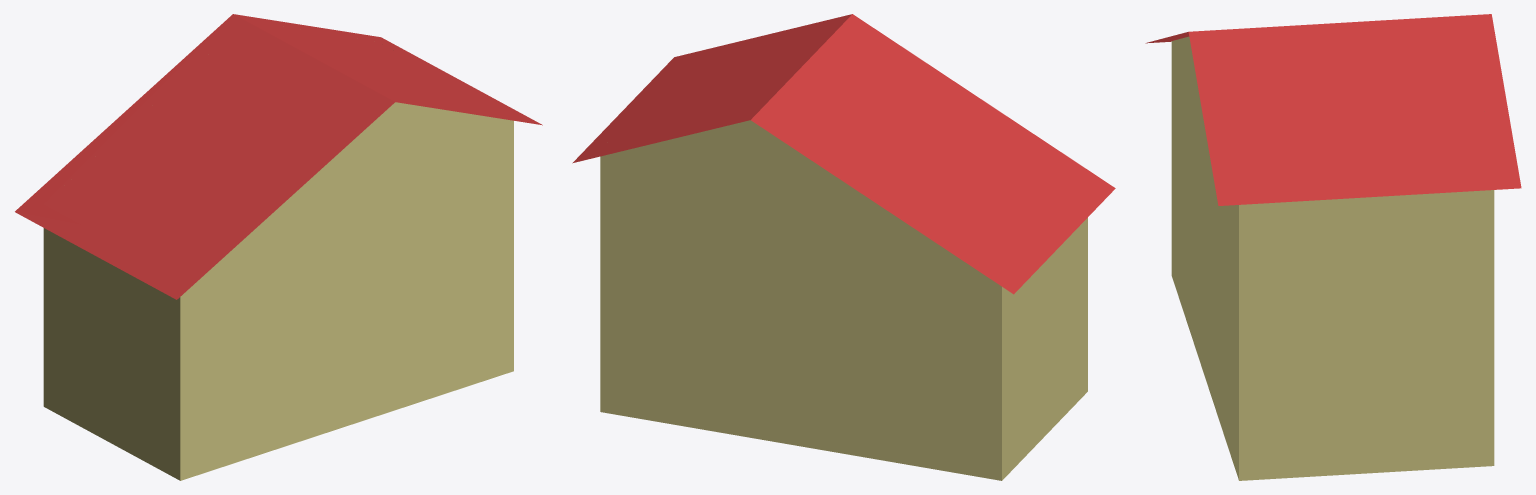
The picture shows the model from 3 angles, left to right: view 1: azimuth 30°, elevation 25°; view 2: azimuth 150°, elevation 25°; view 3: azimuth 270°, elevation 25°; orthographic projection. The views are drawn at different scales.
Size of the model in its own units: 11.86 by 7.77 by 8.41.
